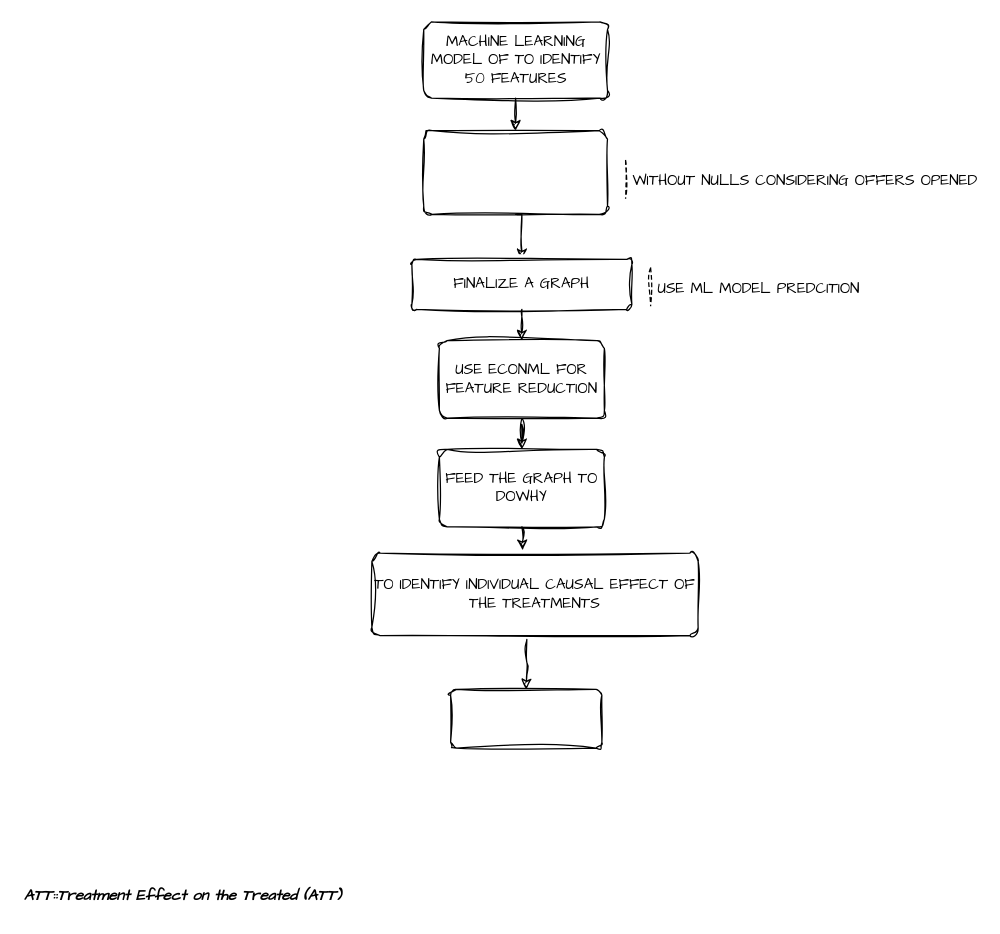
Image size: 1000x934. Some labels were removed from this diagram. Each missing label, with the centre of its shape:
AUTOMATE CAUSAL DISCOVERY WITH 8 ALGORITHMS 50 FEATURES: the point at 515,171
RECCOMEND THE BEST TREATMENT: the point at 525,718
